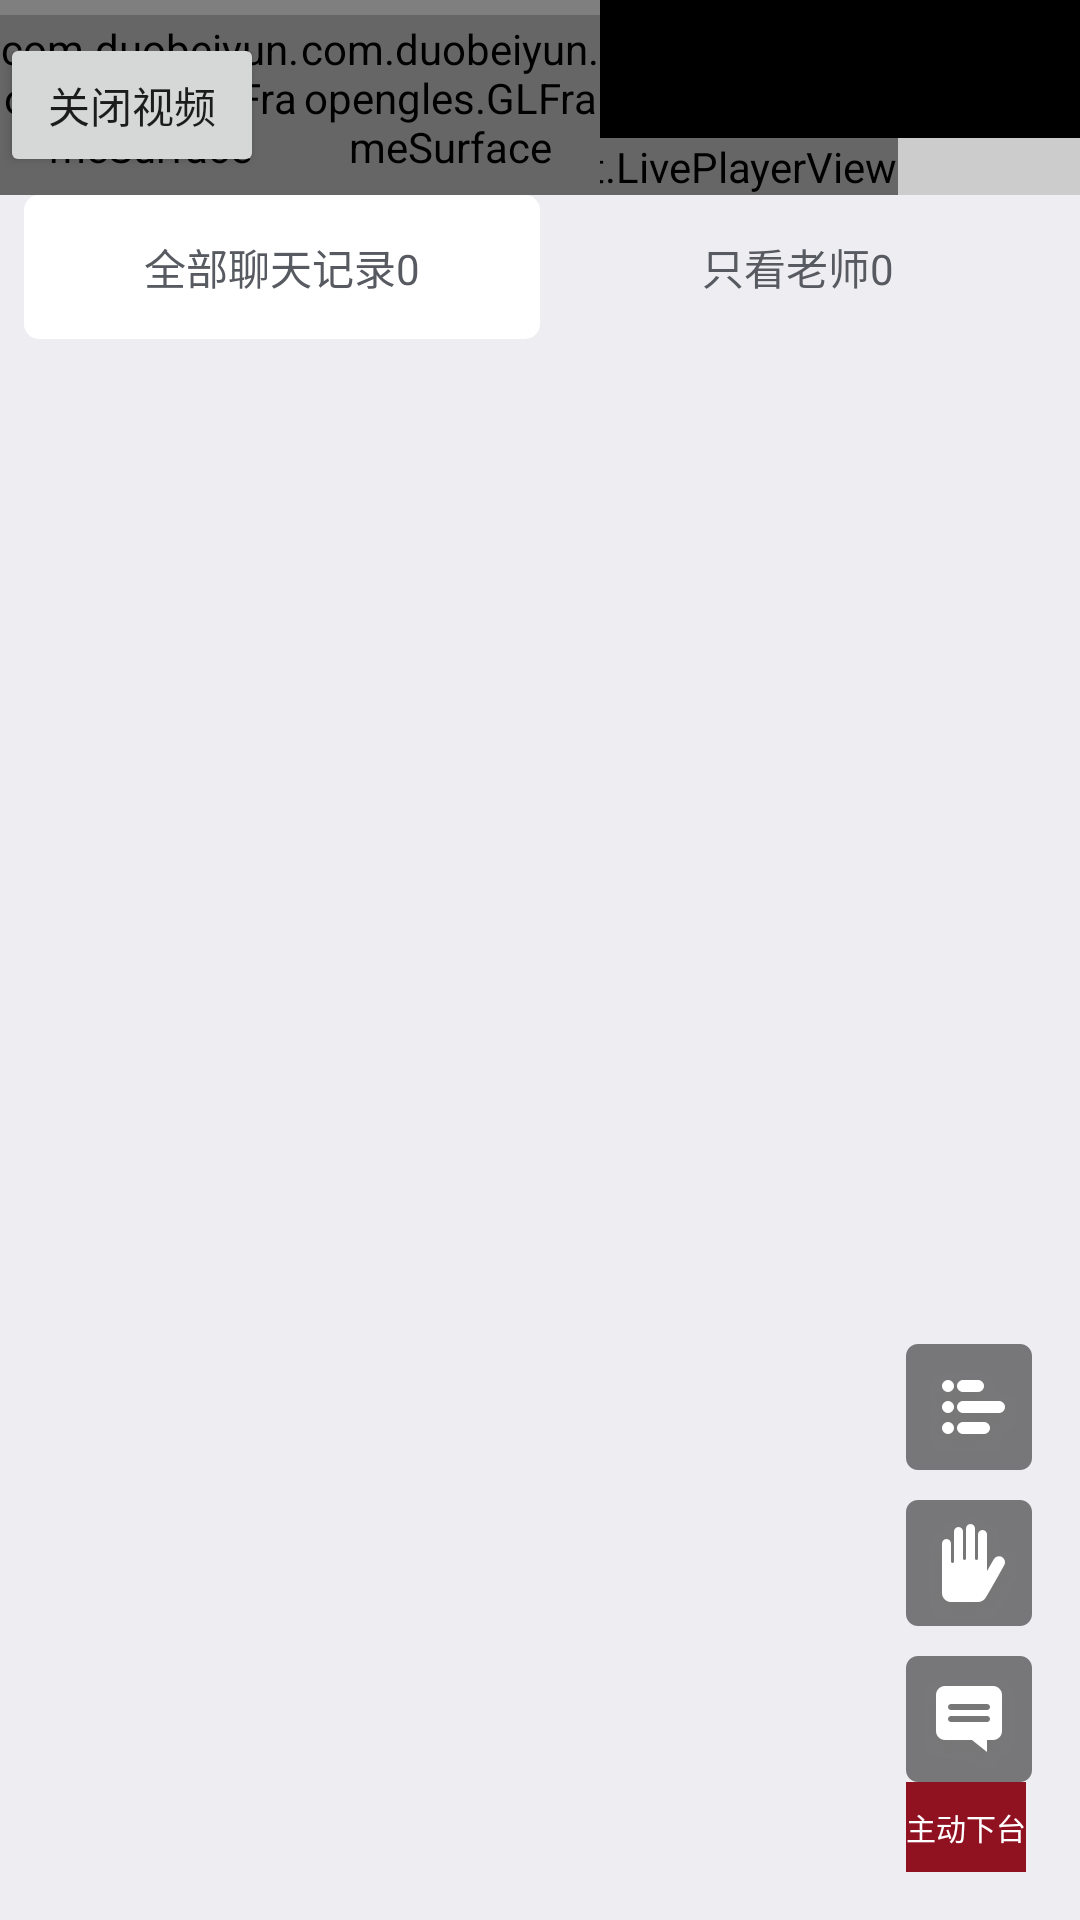

Where icons sit on this 1080 × 1920 app screen, as bbox(x1, y1, x2, y2):
live handup: bbox(906, 1500, 1032, 1626)
live message: bbox(906, 1656, 1032, 1782)
